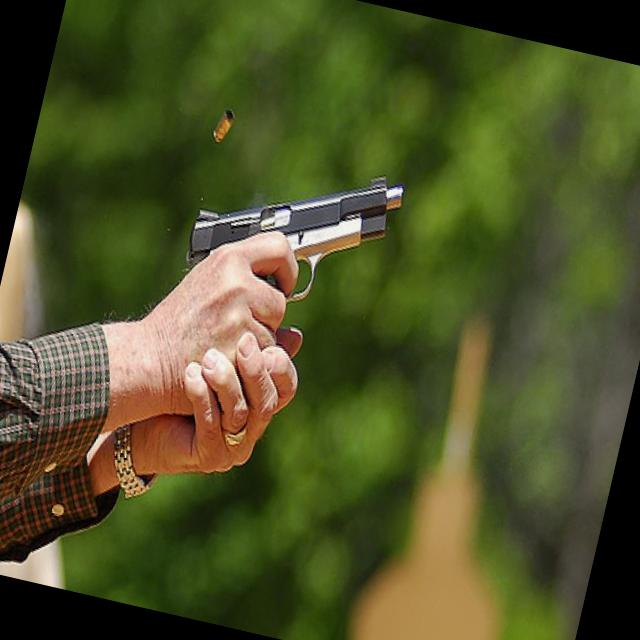handgun: (176, 126, 407, 323)
